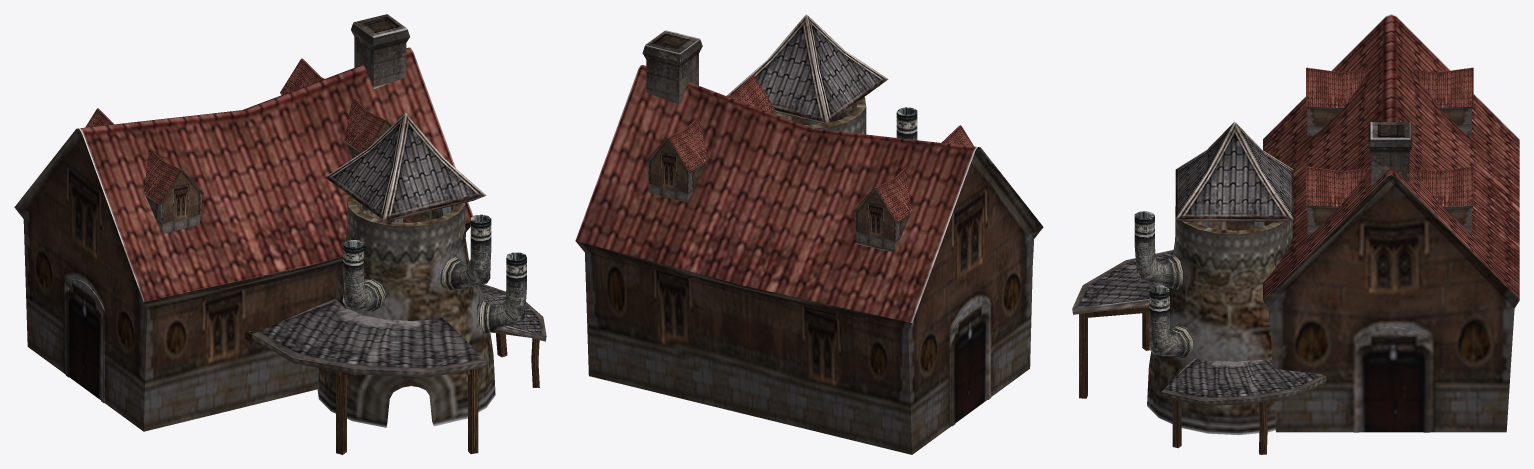
Rendered from House01.fbx.
3 renders of one model, left to right at view 1: azimuth 30°, elevation 25°; view 2: azimuth 150°, elevation 25°; view 3: azimuth 270°, elevation 25°, orthographic. The views are drawn at different scales.
Parts seen in each view (by area): view 1: House02; view 2: House02; view 3: House02.
Boxes of the visible parts, <box> form: House02: <box>14,14,546,454</box>; House02: <box>575,14,1043,454</box>; House02: <box>1072,14,1519,454</box>.
Bounding box in the file's own units: 148 × 114 × 156.
1 material, 1 textured.
